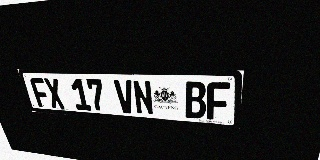1: (69, 79, 92, 111)
7: (85, 79, 107, 112)
B: (184, 81, 206, 119)
F: (207, 82, 230, 121), (29, 78, 52, 108)
N: (132, 80, 154, 115)
V: (113, 80, 136, 114)
X: (43, 78, 66, 109)
